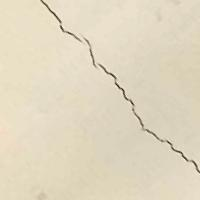crack: (36, 0, 199, 174)
